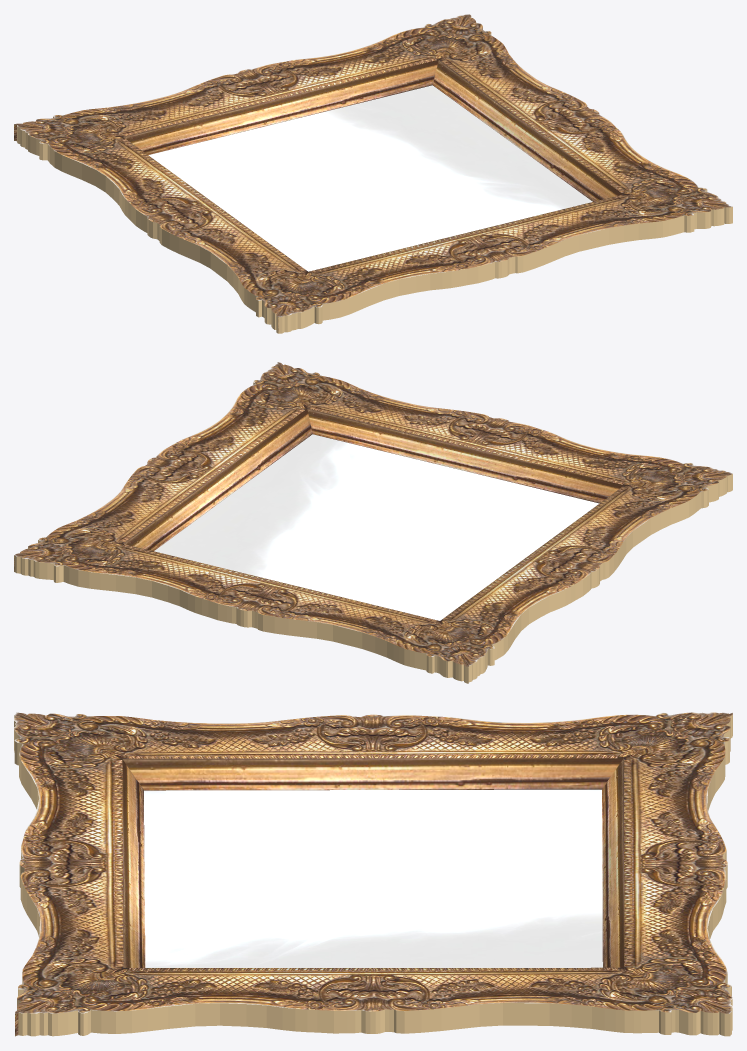
File: augmented-artisan.glb
3 views of the same model, one above another, from view 1: azimuth 30°, elevation 25°; view 2: azimuth 150°, elevation 25°; view 3: azimuth 270°, elevation 25° (orthographic). The views are drawn at different scales.
Parts seen in each view (by area): view 1: kehys, artbreeder-outpaint(5).jpeg; view 2: kehys, artbreeder-outpaint(5).jpeg; view 3: kehys, artbreeder-outpaint(5).jpeg.
Boxes of the visible parts, x1,y1,x2,y2 form: kehys: (14, 14, 732, 333); artbreeder-outpaint(5).jpeg: (148, 85, 592, 271); kehys: (14, 362, 732, 683); artbreeder-outpaint(5).jpeg: (154, 434, 599, 620); kehys: (14, 712, 732, 1036); artbreeder-outpaint(5).jpeg: (144, 789, 602, 967).
Size of the model in its own units: 7.28 by 0.2782 by 7.34.
2 materials, 1 textured.
